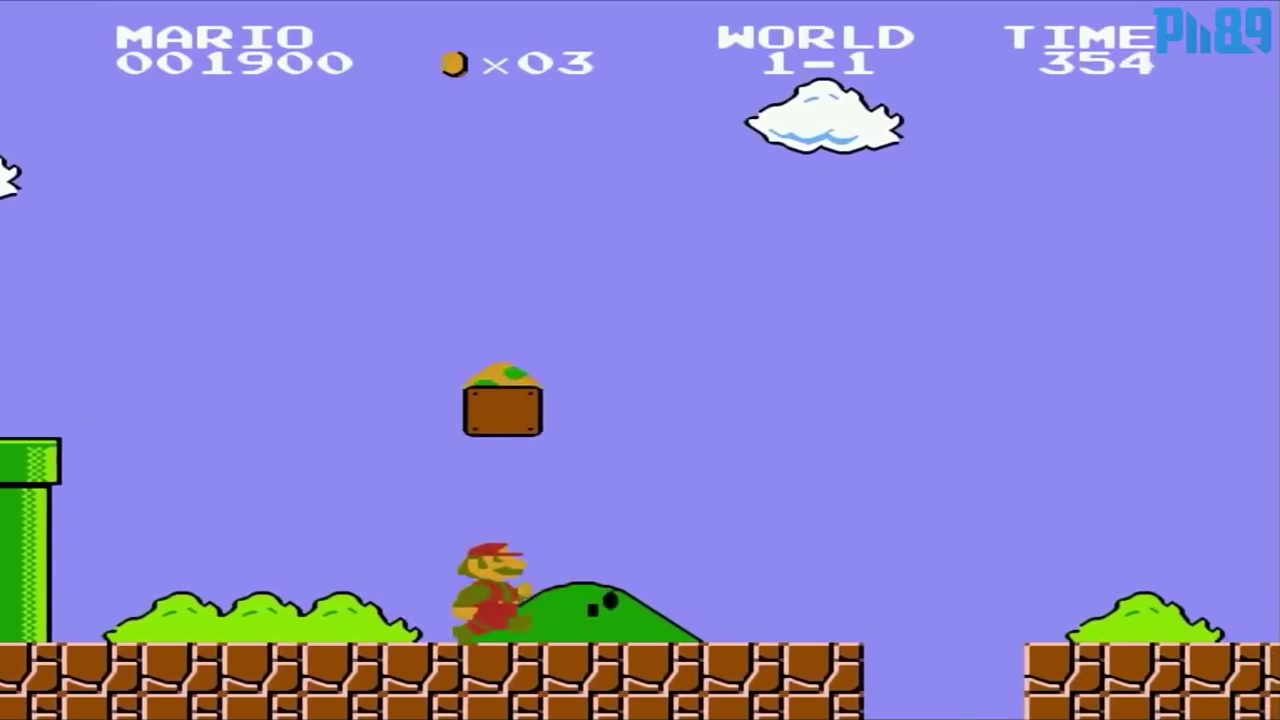mario: (433, 535, 540, 639)
